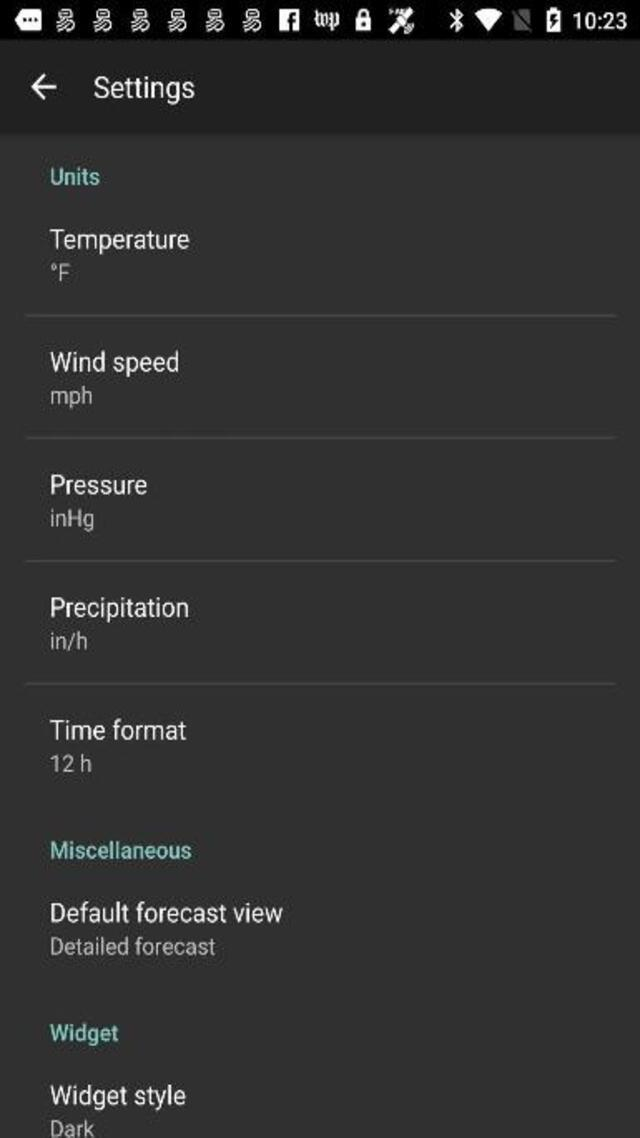Icon: (29, 73, 56, 101)
Text: (50, 899, 282, 922), (49, 228, 190, 256), (50, 596, 188, 624), (50, 1083, 186, 1111), (50, 351, 178, 378), (51, 934, 216, 954), (50, 718, 186, 739), (94, 76, 195, 104), (51, 840, 192, 860), (51, 473, 148, 494), (50, 1022, 120, 1044), (50, 507, 93, 530), (51, 166, 99, 186), (51, 385, 92, 408), (52, 753, 92, 773), (52, 1118, 94, 1136), (49, 630, 86, 650), (50, 263, 70, 281)
